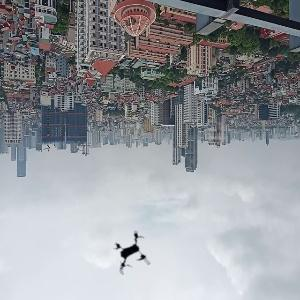drone: (110, 232, 158, 280)
